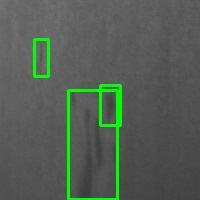inclusion: (68, 90, 117, 199), (100, 85, 120, 125), (34, 40, 48, 76)
